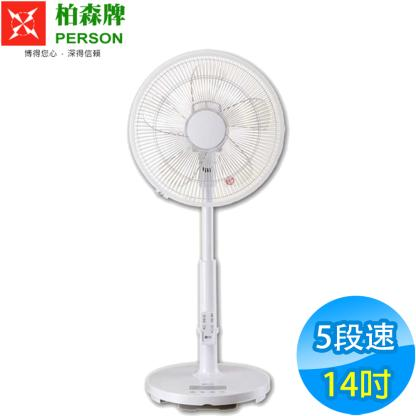fan: (123, 45, 294, 416)
